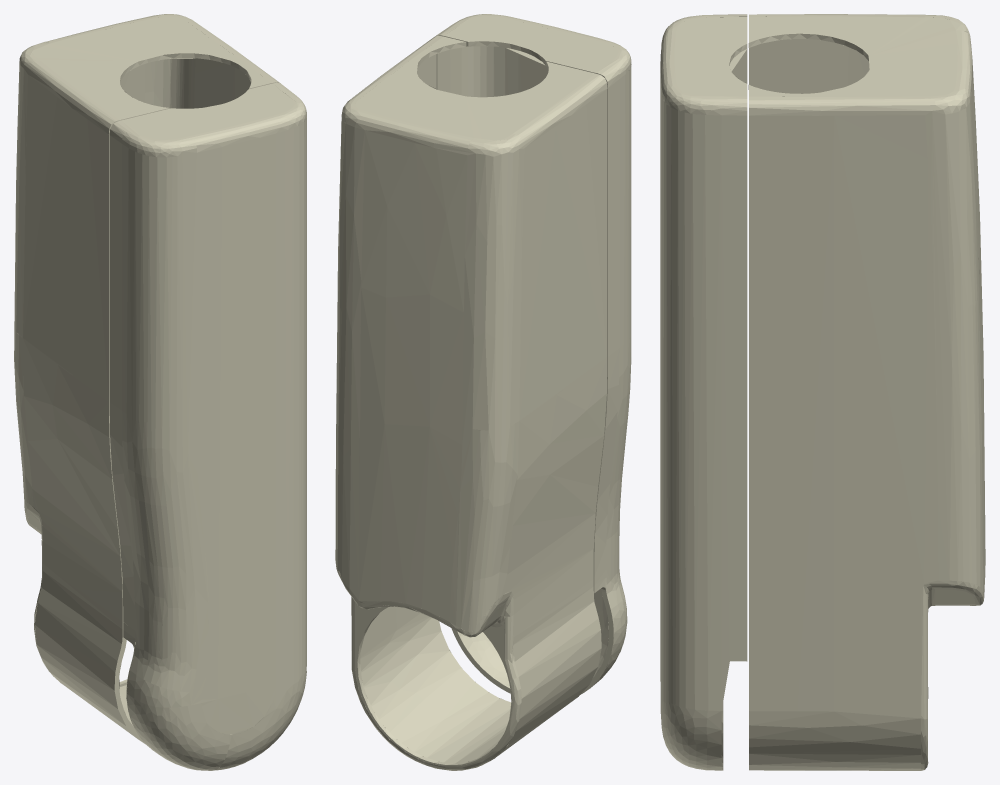
File: arm_flex.dae
The picture shows the model from 3 angles, left to right: view 1: azimuth 30°, elevation 25°; view 2: azimuth 150°, elevation 25°; view 3: azimuth 270°, elevation 25°; orthographic projection. The views are drawn at different scales.
Parts seen in each view (by area): view 1: Arm_Flex; view 2: Arm_Flex; view 3: Arm_Flex.
Part boxes in pixels (x1=…): Arm_Flex: x1=14, y1=14, x2=306, y2=770; Arm_Flex: x1=335, y1=14, x2=631, y2=770; Arm_Flex: x1=660, y1=14, x2=985, y2=770.
Size of the model in its own units: 0.0768 by 0.1143 by 0.2726.
1 material, 1 textured.
